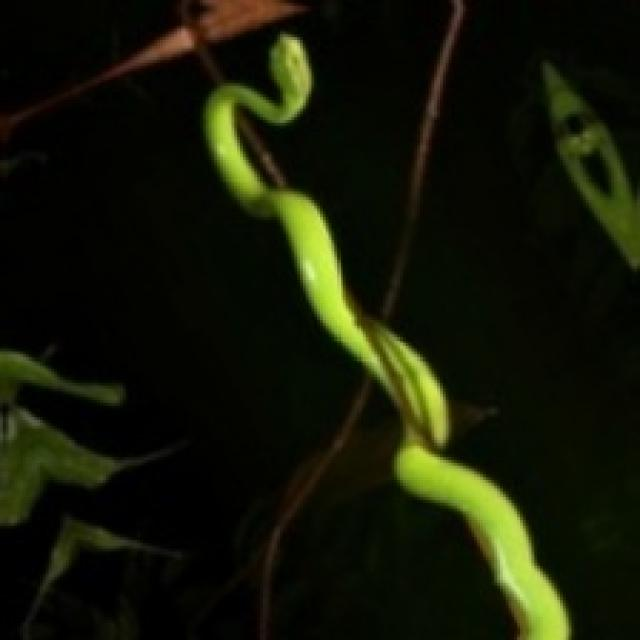north ph temple pitviper: (206, 34, 569, 637)
